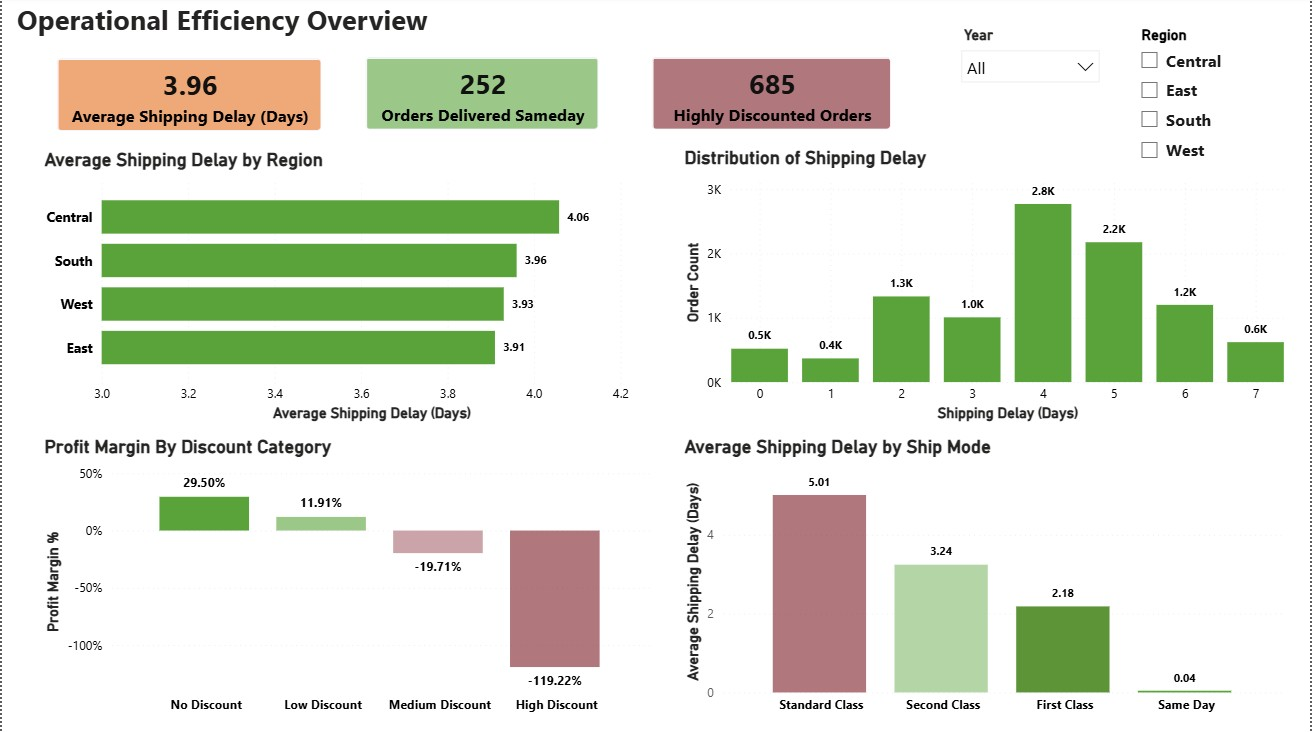

Layout of this report page (visuals, bound fields, positions):
{"tool":"powerbi","page":{"name":"Operational Efficiency Overview","canvas":[1280,720],"ordinal":3},"visuals":[{"type":"clusteredBarChart","title":"Average Shipping Delay by Region","fields":{"Y":["Avg(superstore.Shipping Days)"],"Category":["superstore.Region Hierarchy.Region","superstore.Region Hierarchy.State"]},"box":[36.8,149.8,602.7,272.5],"z":0},{"type":"clusteredColumnChart","title":"Profit Margin By Discount Category","fields":{"Category":["superstore.Discount Category"],"Y":["superstore.Profit Margin %"]},"box":[36.8,430.8,602.7,281.1],"z":1000},{"type":"clusteredColumnChart","title":"Distribution of Shipping Delay","fields":{"Category":["superstore.Shipping Days (bins)"],"Y":["CountNonNull(superstore.Shipping Days)"]},"box":[662.8,148.5,596.5,273.7],"z":2000},{"type":"textbox","box":[1053,470,150,233],"z":3000},{"type":"textbox","box":[9.8,0,543.8,47.9],"z":4000},{"type":"cardVisual","fields":{"Data":["Avg(superstore.Shipping Days)"]},"box":[36.8,44.2,293.4,105.6],"z":5000},{"type":"cardVisual","fields":{"Data":["superstore.Orders Same Day Delivery"]},"box":[338.8,43,262.7,105.6],"z":6000},{"type":"cardVisual","fields":{"Data":["superstore.Orders with High Discounts"]},"box":[618.6,43,268.8,105.6],"z":7000},{"type":"clusteredColumnChart","title":"Average Shipping Delay by Ship Mode","fields":{"Category":["superstore.Ship Mode"],"Y":["Avg(superstore.Shipping Days)"]},"box":[662.8,430.8,596.5,281.1],"z":8000},{"type":"slicer","fields":{"Values":["Date Table.Year"]},"box":[928,24.5,155.9,67.5],"z":9000},{"type":"slicer","fields":{"Values":["superstore.Region"]},"box":[1102.3,24.5,157.1,147.3],"z":10000}]}

Visuals, with their boxes in screenshot pixels (x1, y1, x2, y2), scaled from the page's 1280x720 canvas onto the 1315x732 screenshot:
"Average Shipping Delay by Region" clusteredBarChart: crop(38, 152, 657, 429)
"Profit Margin By Discount Category" clusteredColumnChart: crop(38, 438, 657, 724)
"Distribution of Shipping Delay" clusteredColumnChart: crop(681, 151, 1294, 429)
textbox: crop(1082, 478, 1236, 715)
textbox: crop(10, 0, 569, 49)
cardVisual - Avg(superstore.Shipping Days): crop(38, 45, 339, 152)
cardVisual - superstore.Orders Same Day Delivery: crop(348, 44, 618, 151)
cardVisual - superstore.Orders with High Discounts: crop(636, 44, 912, 151)
"Average Shipping Delay by Ship Mode" clusteredColumnChart: crop(681, 438, 1294, 724)
slicer - Date Table.Year: crop(953, 25, 1114, 94)
slicer - superstore.Region: crop(1132, 25, 1294, 175)
